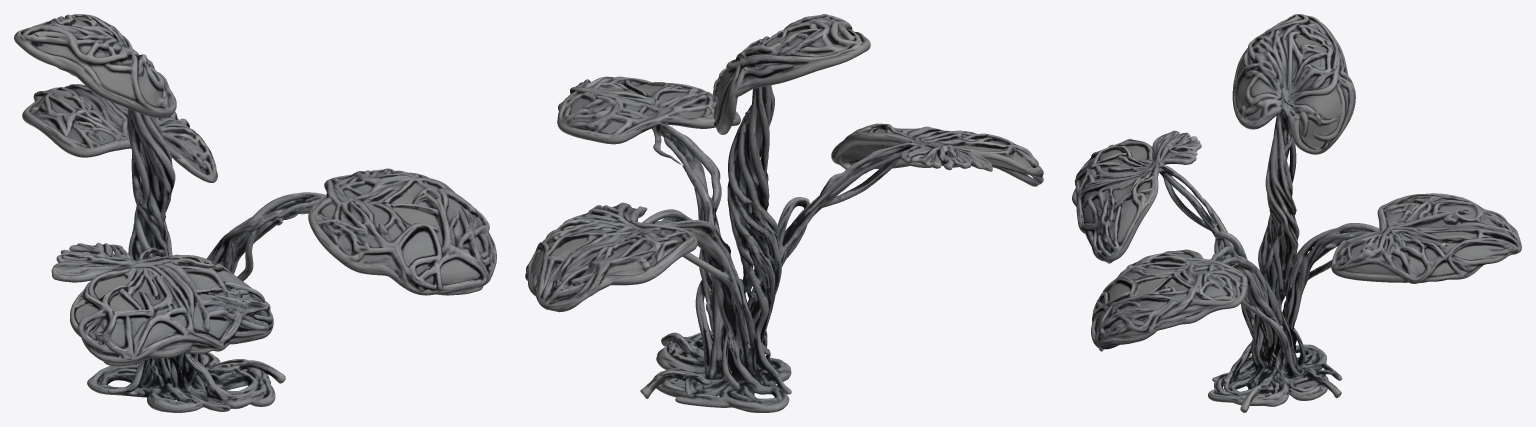
File: sustainability-positive.glb
The picture shows the model from 3 angles, left to right: view 1: azimuth 30°, elevation 25°; view 2: azimuth 150°, elevation 25°; view 3: azimuth 270°, elevation 25°; orthographic projection. The views are drawn at different scales.
Visible parts, largest first — view 1: tripo_node_123fcca8-476e-47cd-9f4b-732f4d615201; view 2: tripo_node_123fcca8-476e-47cd-9f4b-732f4d615201; view 3: tripo_node_123fcca8-476e-47cd-9f4b-732f4d615201.
Part boxes in pixels (x1,y1,x2,y2): tripo_node_123fcca8-476e-47cd-9f4b-732f4d615201: [14, 14, 496, 412]; tripo_node_123fcca8-476e-47cd-9f4b-732f4d615201: [525, 14, 1043, 412]; tripo_node_123fcca8-476e-47cd-9f4b-732f4d615201: [1072, 14, 1521, 412].
Bounding box in the file's own units: 0.908 × 0.7696 × 1.
Materials: 1 (1 with a texture image).
